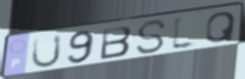9: (66, 30, 97, 66)
B: (99, 24, 134, 61)
L: (169, 14, 200, 53)
Q: (204, 10, 238, 45)
S: (134, 19, 168, 56)
U: (30, 33, 64, 70)
